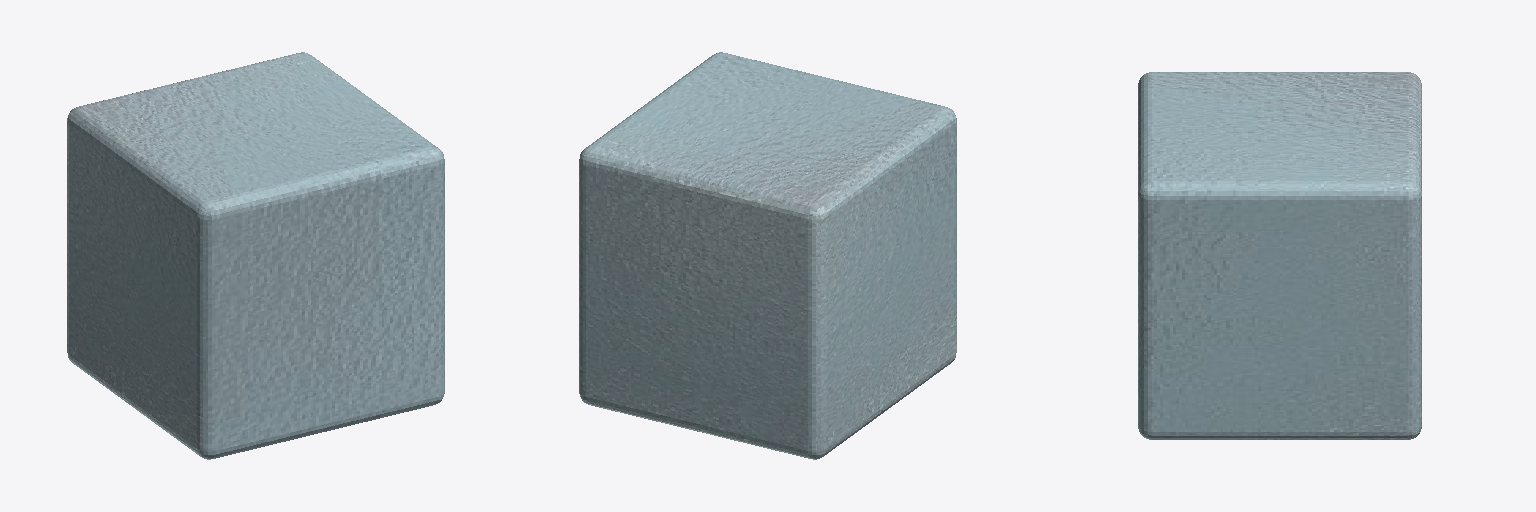
3 renders of one model, left to right at view 1: azimuth 30°, elevation 25°; view 2: azimuth 150°, elevation 25°; view 3: azimuth 270°, elevation 25°, orthographic.
Visible parts, largest first — view 1: Cube_Finished_Cube.001; view 2: Cube_Finished_Cube.001; view 3: Cube_Finished_Cube.001.
Part boxes in pixels (bbox=[...]): Cube_Finished_Cube.001: bbox=[67, 52, 444, 459]; Cube_Finished_Cube.001: bbox=[579, 52, 956, 459]; Cube_Finished_Cube.001: bbox=[1138, 72, 1421, 439].
Bounding box in the file's own units: 2 × 2 × 2.
1 materials, 1 textured.